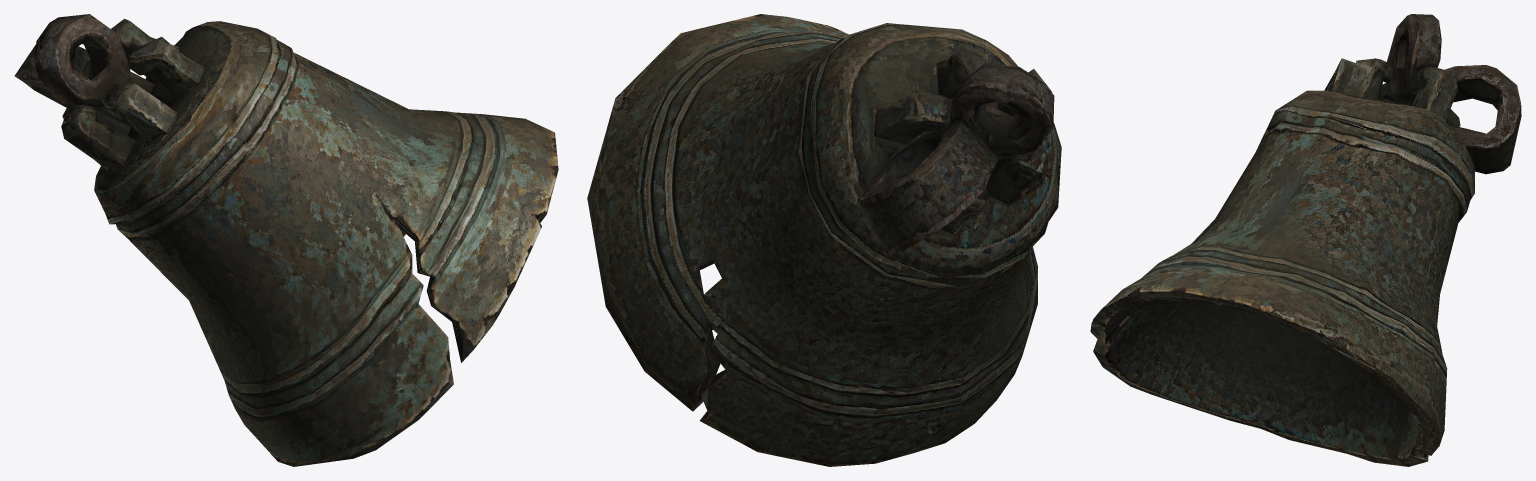
The model's file is dungeon_fallen_bell.glb.
The picture shows the model from 3 angles, left to right: view 1: azimuth 30°, elevation 25°; view 2: azimuth 150°, elevation 25°; view 3: azimuth 270°, elevation 25°; orthographic projection. The views are drawn at different scales.
Visible parts, largest first — view 1: fallen_bell; view 2: fallen_bell; view 3: fallen_bell.
Part boxes in pixels (box(x1,y1,x2,y2)): fallen_bell: box(14, 14, 558, 466); fallen_bell: box(587, 14, 1061, 466); fallen_bell: box(1090, 14, 1521, 466).
Size of the model in its own units: 0.9961 by 0.9087 by 0.96.
Materials: 1 (1 with a texture image).
